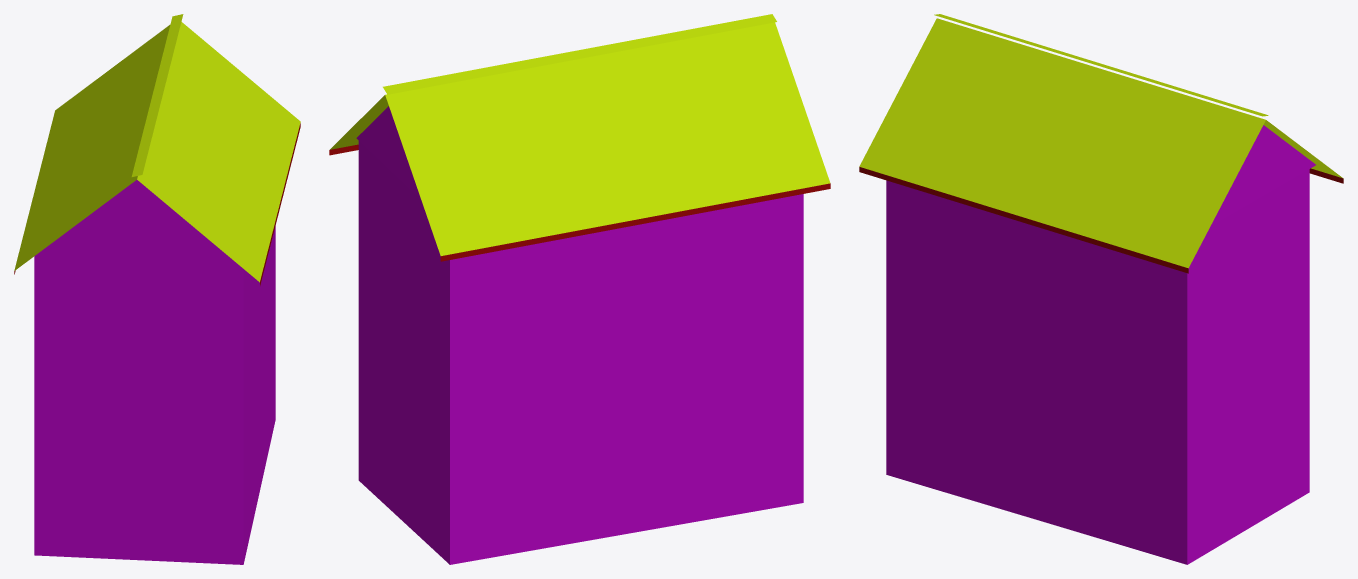
File: srz_30.glb
3 views of the same model, side by side, from view 1: azimuth 30°, elevation 25°; view 2: azimuth 150°, elevation 25°; view 3: azimuth 270°, elevation 25° (orthographic). The views are drawn at different scales.
Visible parts, largest first — view 1: srz_30; view 2: srz_30; view 3: srz_30.
Boxes of the visible parts, x1,y1,x2,y2 form: srz_30: (14,14,300,564); srz_30: (329,14,830,564); srz_30: (859,14,1343,564).
Size of the model in its own units: 9.3 by 9.49 by 9.95.
